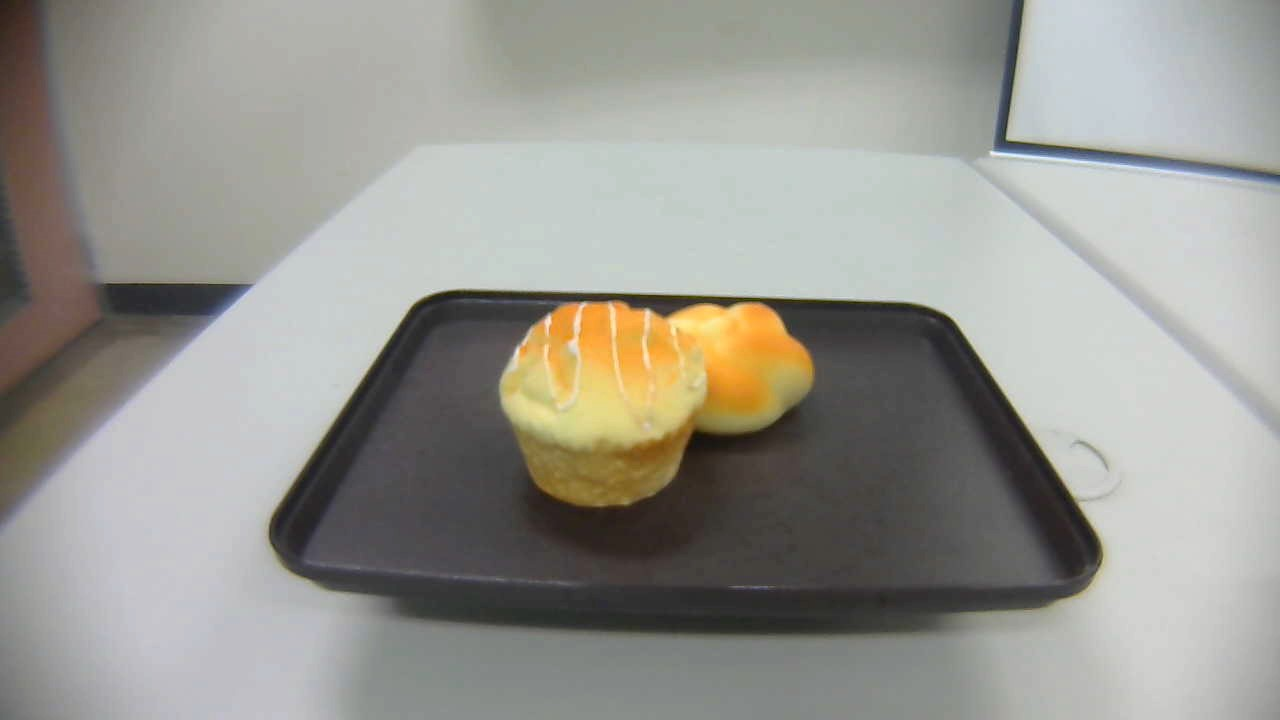cupcake: (499, 299, 708, 508)
twist bread: (663, 299, 815, 436)
